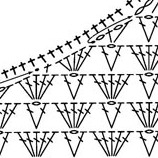enseble_chain: (82, 3, 126, 42), (29, 69, 66, 108), (105, 12, 142, 49), (66, 98, 103, 134), (68, 41, 102, 77), (105, 126, 141, 158), (46, 96, 77, 133), (124, 97, 153, 133), (25, 100, 56, 133), (100, 99, 131, 132), (124, 41, 153, 76), (86, 70, 115, 105), (0, 98, 27, 135), (12, 127, 43, 158), (102, 43, 131, 76), (89, 127, 118, 158), (67, 72, 93, 104), (132, 70, 157, 102), (67, 130, 93, 158), (45, 37, 71, 63), (134, 128, 156, 158), (134, 15, 155, 45), (31, 130, 50, 158), (140, 16, 158, 45), (106, 72, 124, 100), (0, 130, 18, 158), (28, 75, 45, 100), (144, 101, 158, 128), (69, 51, 83, 72), (0, 68, 13, 81)
fan: (59, 130, 81, 158), (144, 44, 158, 71)
